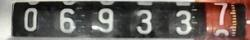digits: (213, 1, 231, 40), (95, 4, 116, 35), (174, 10, 196, 34), (59, 7, 75, 33), (135, 9, 152, 33), (24, 7, 38, 31)
